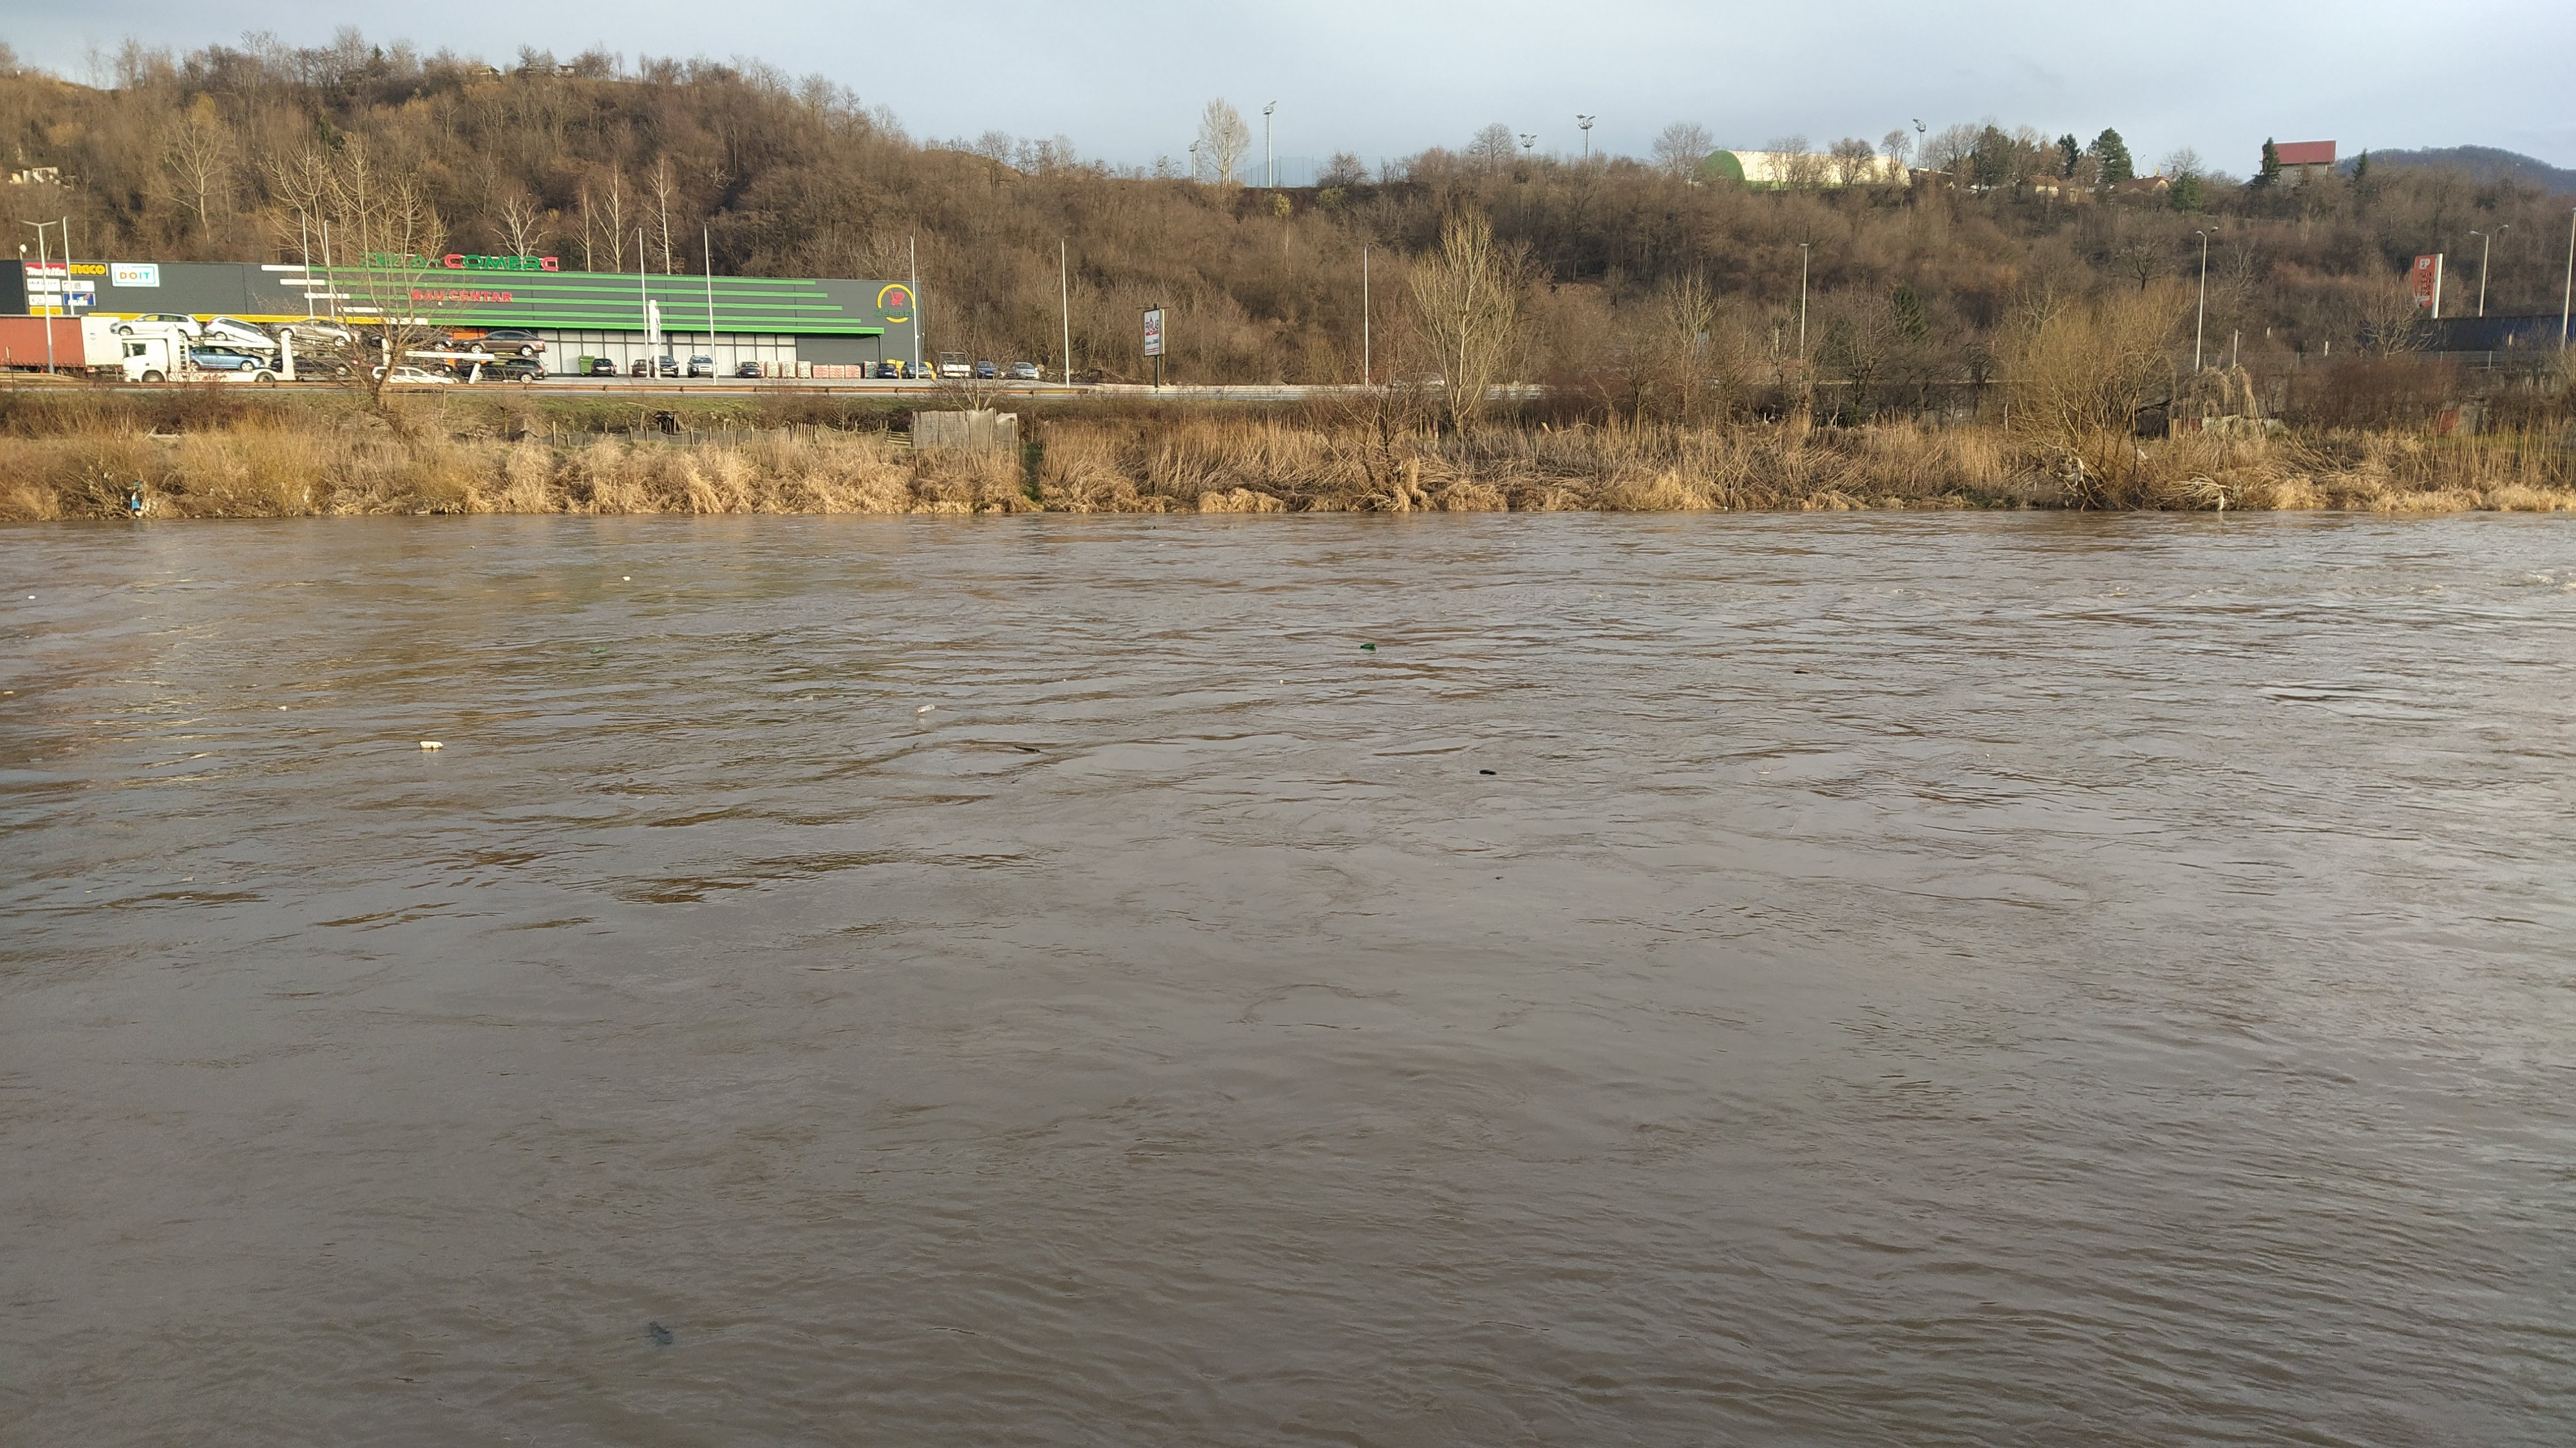Plastic Bottle: (419, 740, 442, 749), (589, 646, 607, 653), (793, 696, 814, 701), (918, 705, 934, 712), (1479, 768, 1495, 775), (25, 758, 42, 763), (1359, 643, 1375, 648)
